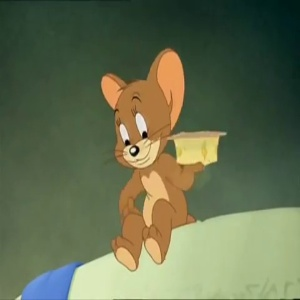Jerry: (91, 44, 188, 168)
